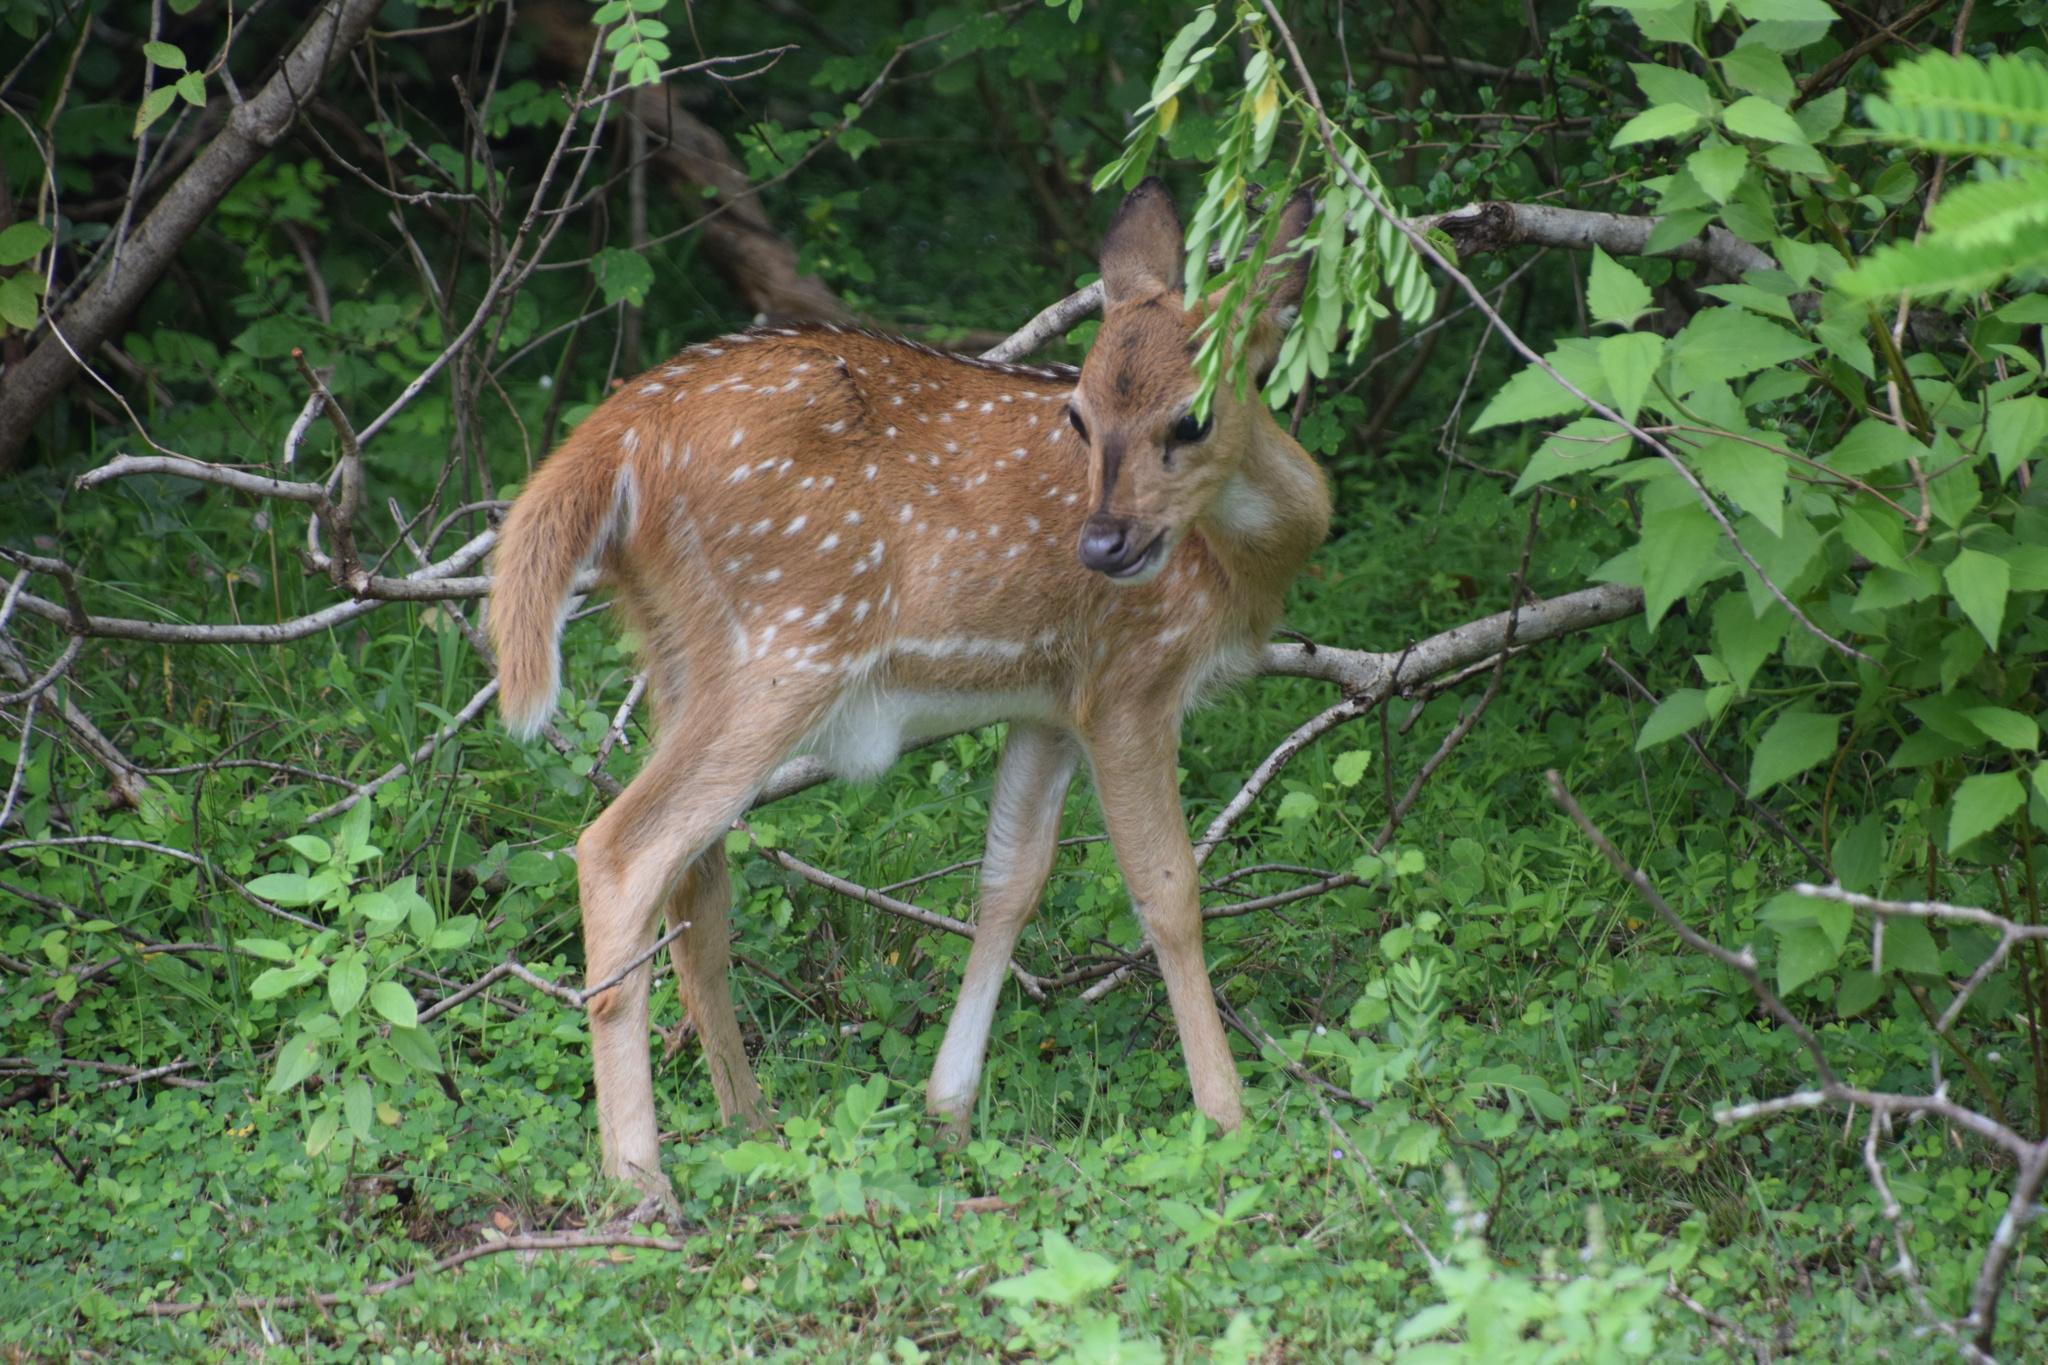Deer: (489, 181, 1329, 1213)
